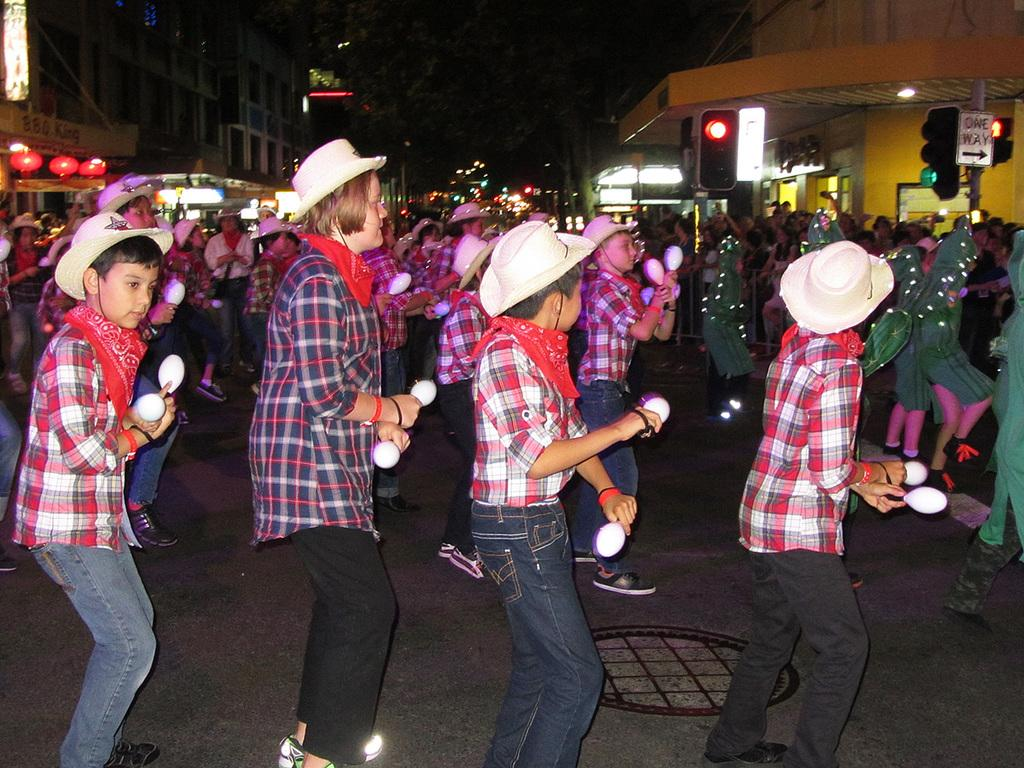Hat: (54, 210, 170, 324), (476, 214, 594, 318), (284, 137, 388, 250), (779, 237, 893, 334), (452, 229, 501, 288), (581, 213, 637, 250), (95, 179, 154, 210), (406, 213, 442, 242), (246, 216, 289, 238), (444, 201, 480, 222), (172, 217, 198, 238), (6, 216, 40, 231), (214, 207, 240, 226), (393, 238, 413, 249), (252, 201, 274, 210)
